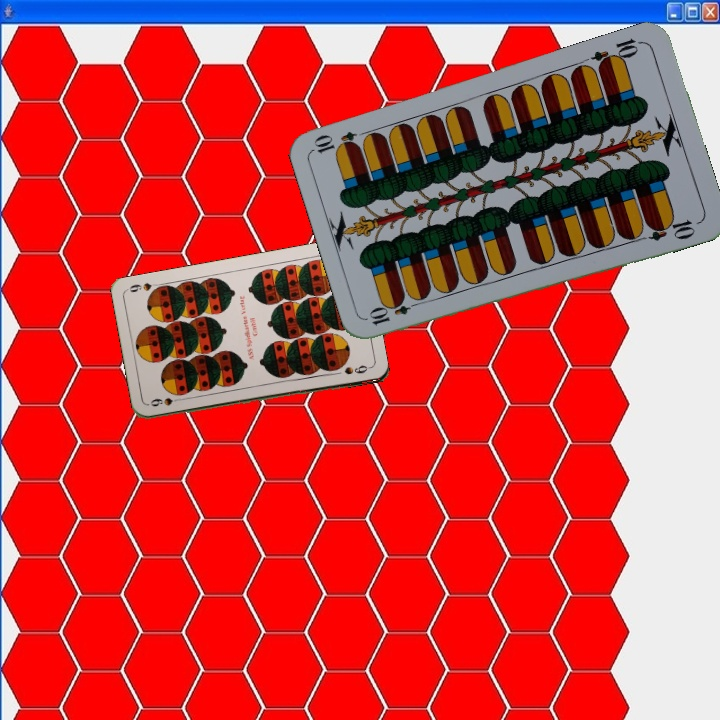E10: (588, 34, 645, 72), (365, 295, 424, 328)
S9: (147, 394, 186, 409)
